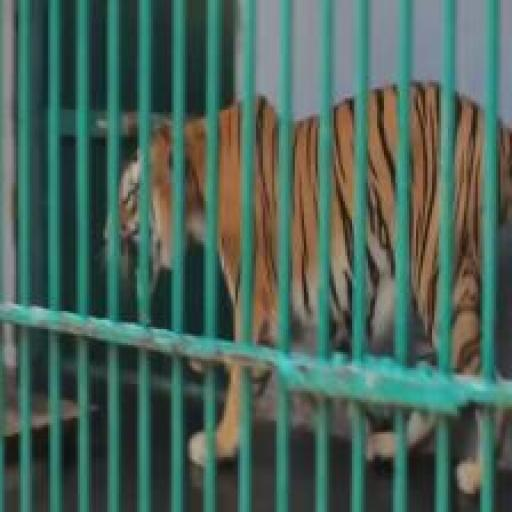Tiger: (64, 41, 512, 485)
